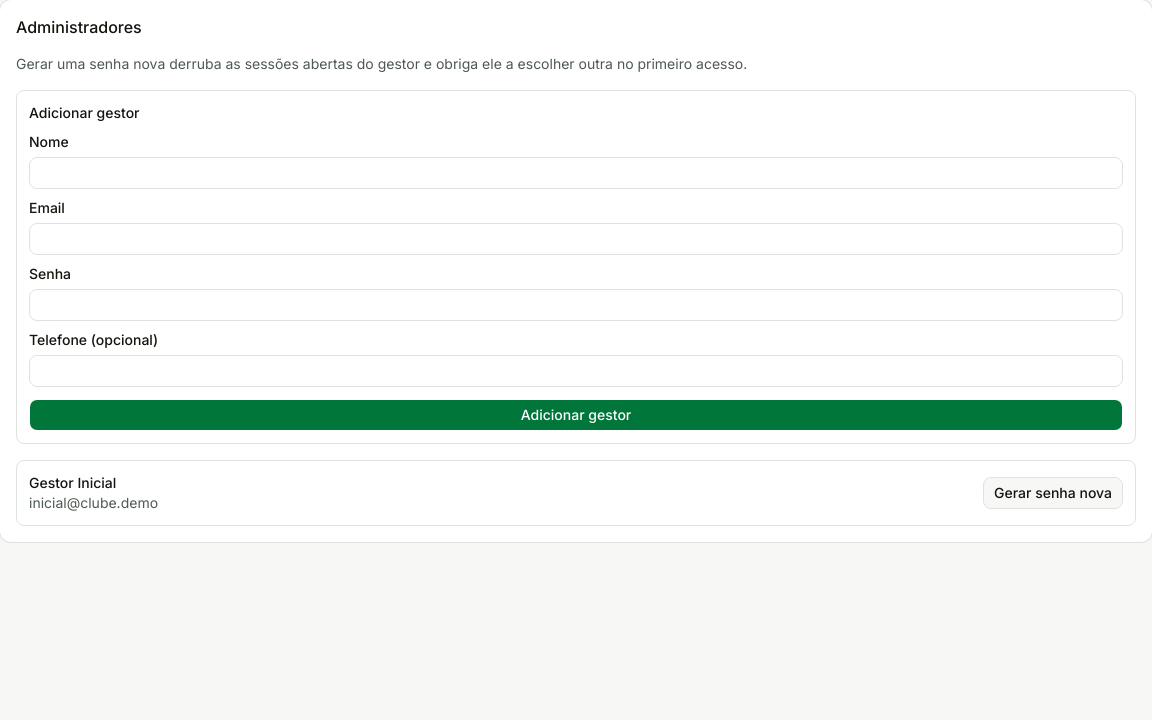
Test: CompanyAdminsCard — adicionar gestor (SPEC-085) › AC-006: envia os campos, limpa o formulário e recarrega a lista
This screenshot has width=1152, height=720.
Expected: the text "Gestor Inicial" is shown, [29,474,116,491]
Type "Segunda Gestora" into the field labelled "Nome" at (576, 173), box [29,157,1123,189]
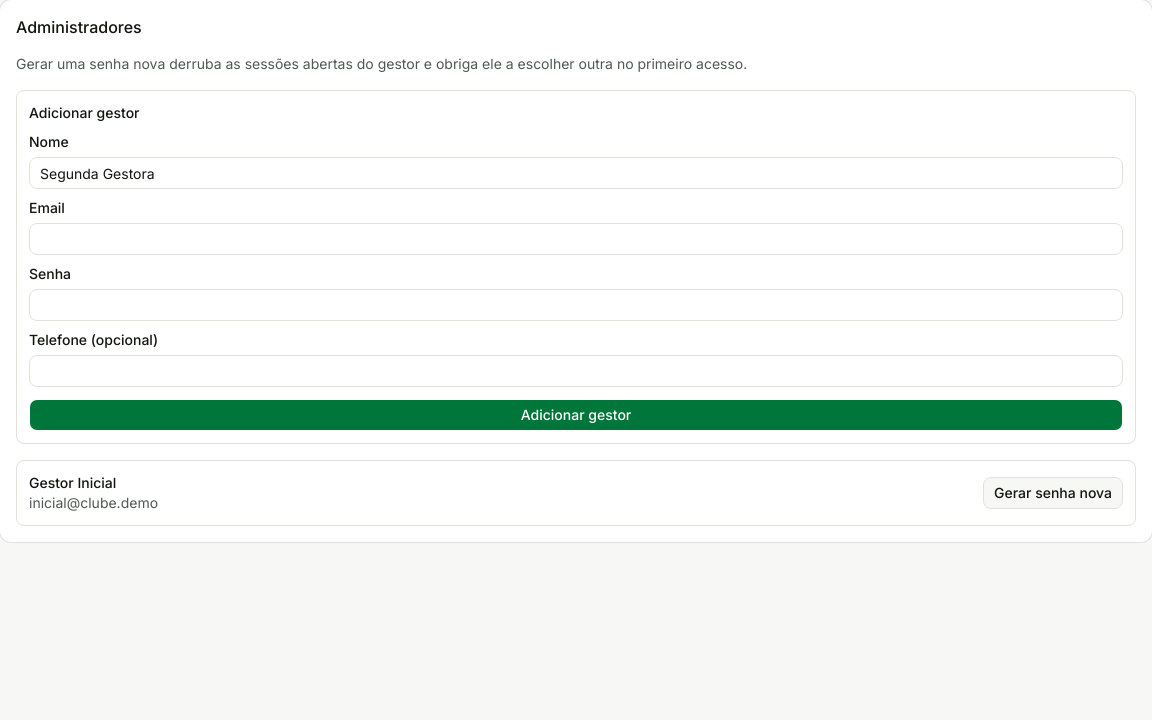
Type "segunda@clube.demo" into the field labelled "Email" at (576, 239), box [29,223,1123,255]
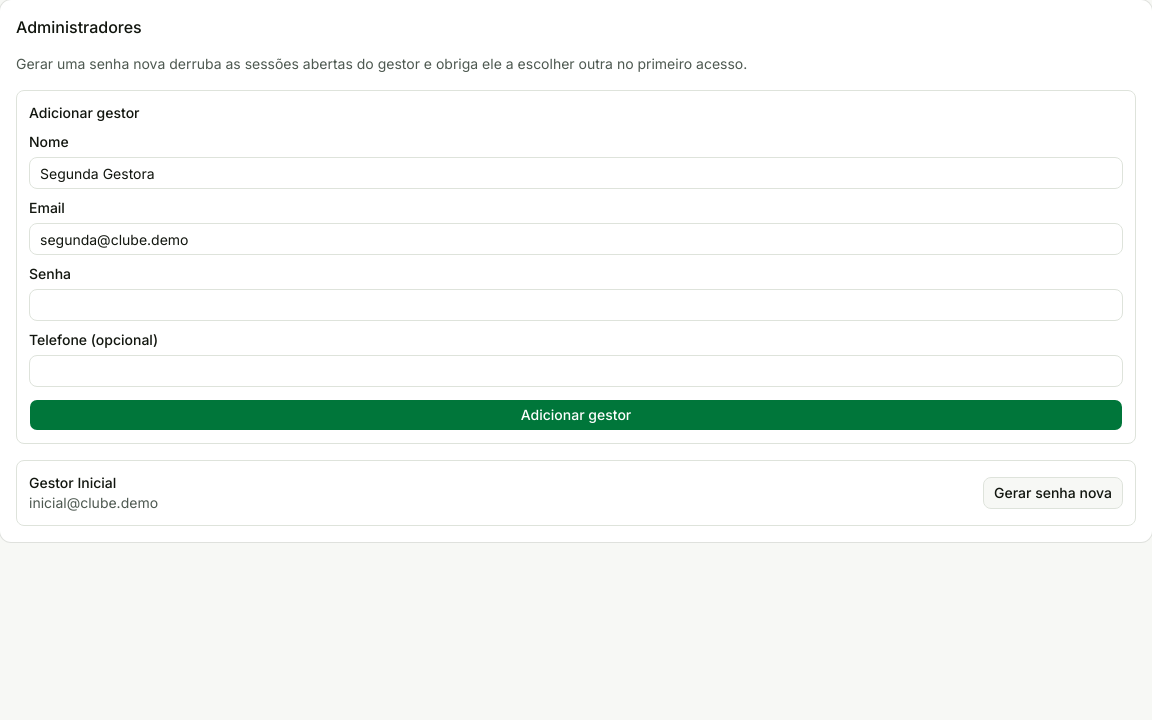
Type "senha-forte-1" into the password field labelled "Senha" at (576, 305), box [29,289,1123,321]
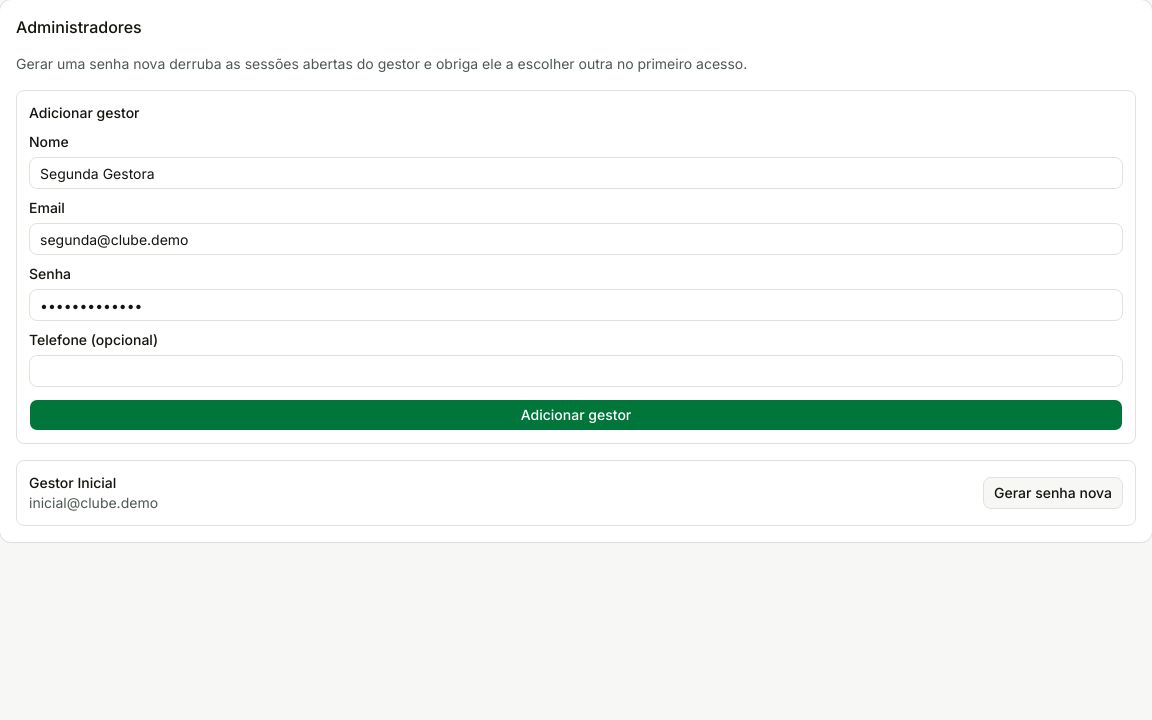
Type "11999990000" into the field labelled "Telefone (opcional)" at (576, 371), box [29,355,1123,387]
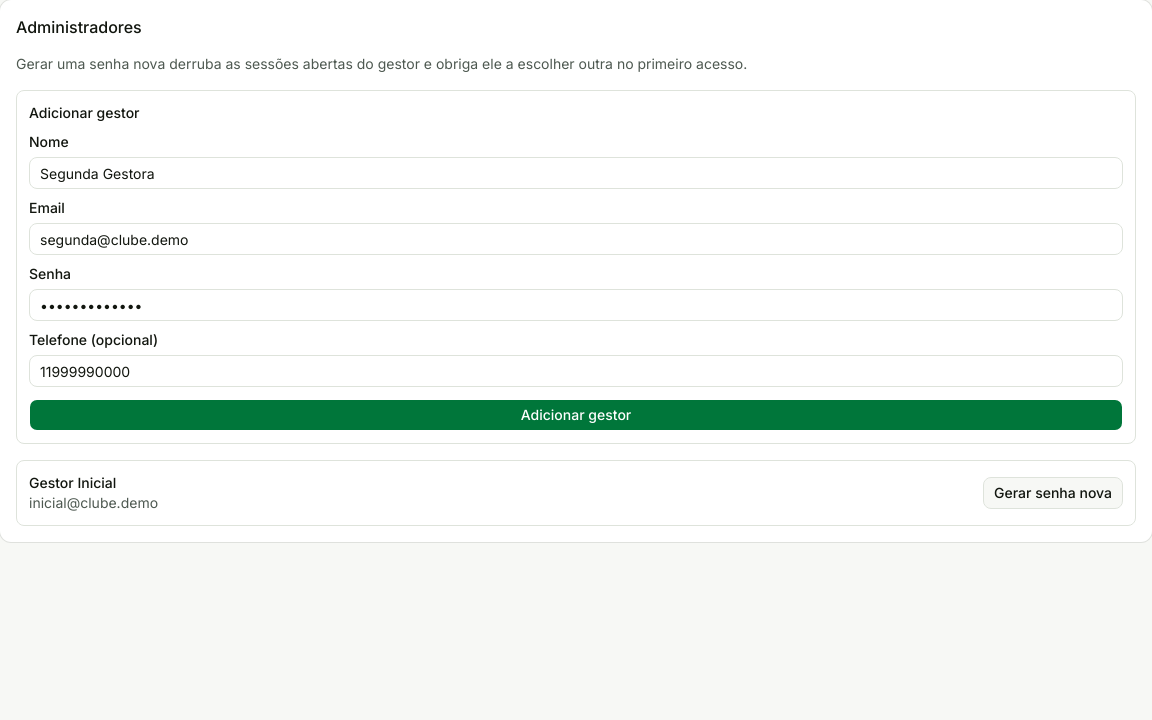
Click the button "Adicionar gestor" at (576, 415), box [29,399,1123,431]
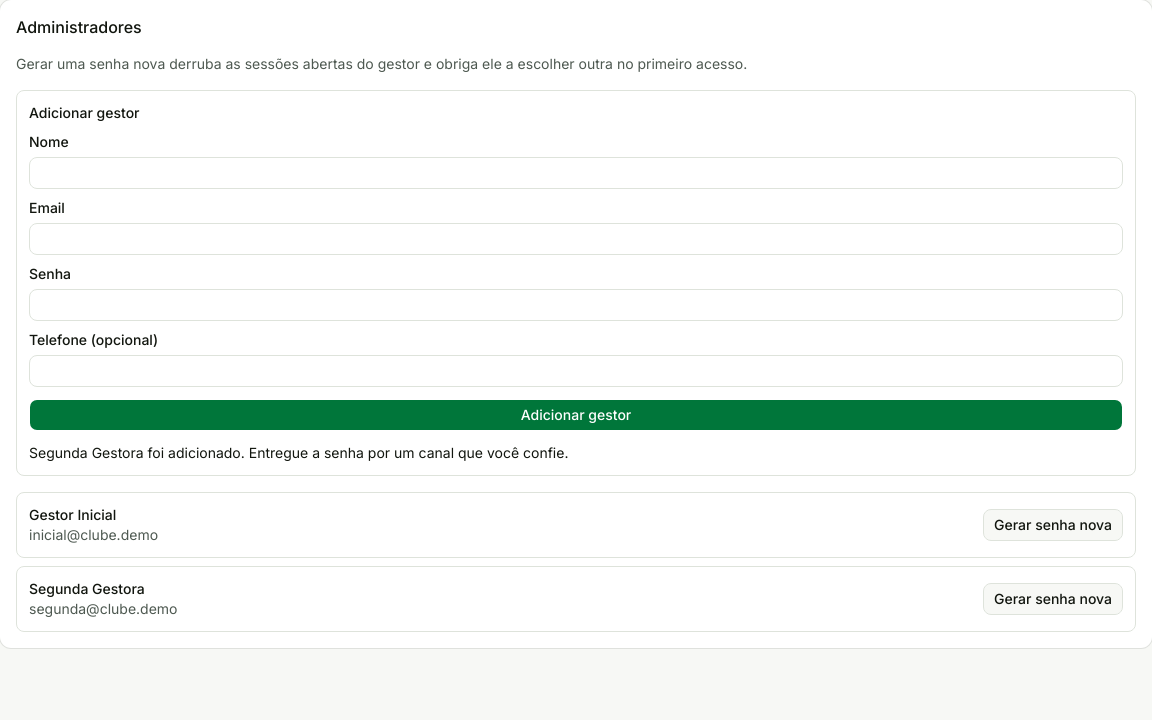
Result: the text "segunda@clube.demo" is shown at [29,600,178,617]
Result: the field labelled "Nome" is empty at [29,157,1123,189]
Result: the field labelled "Email" is empty at [29,223,1123,255]
